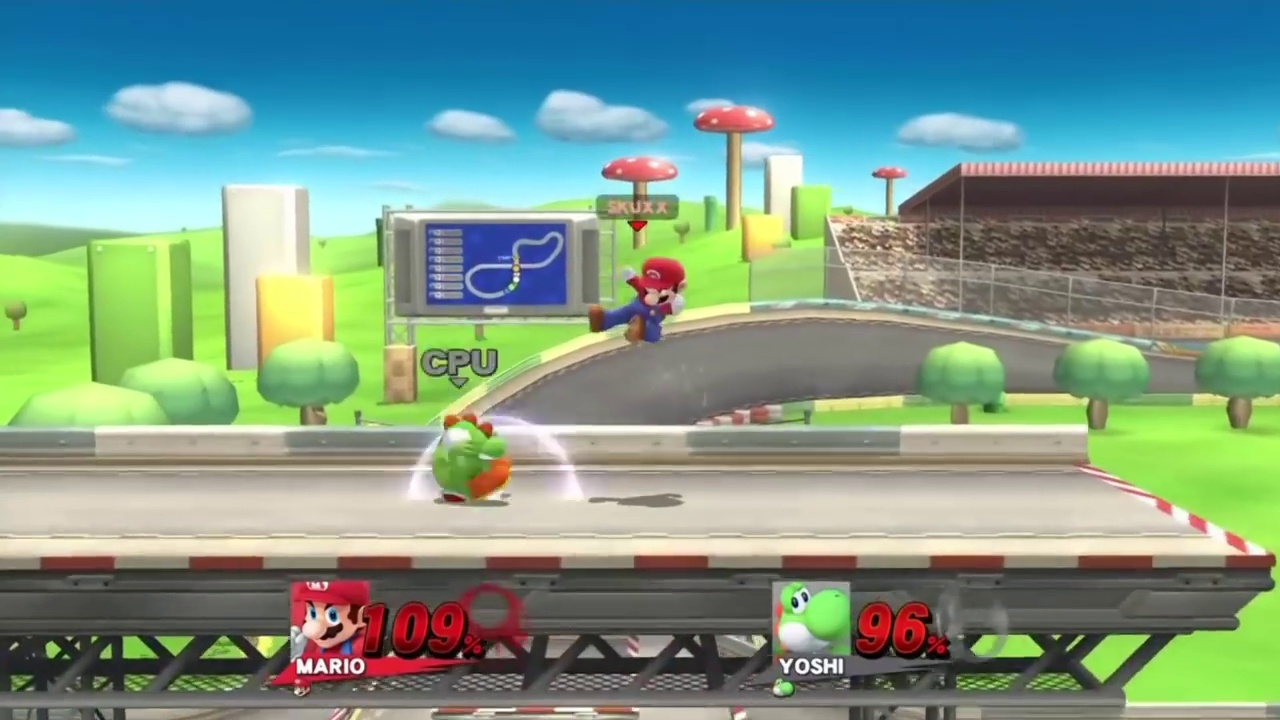Mario: (590, 256, 687, 342)
